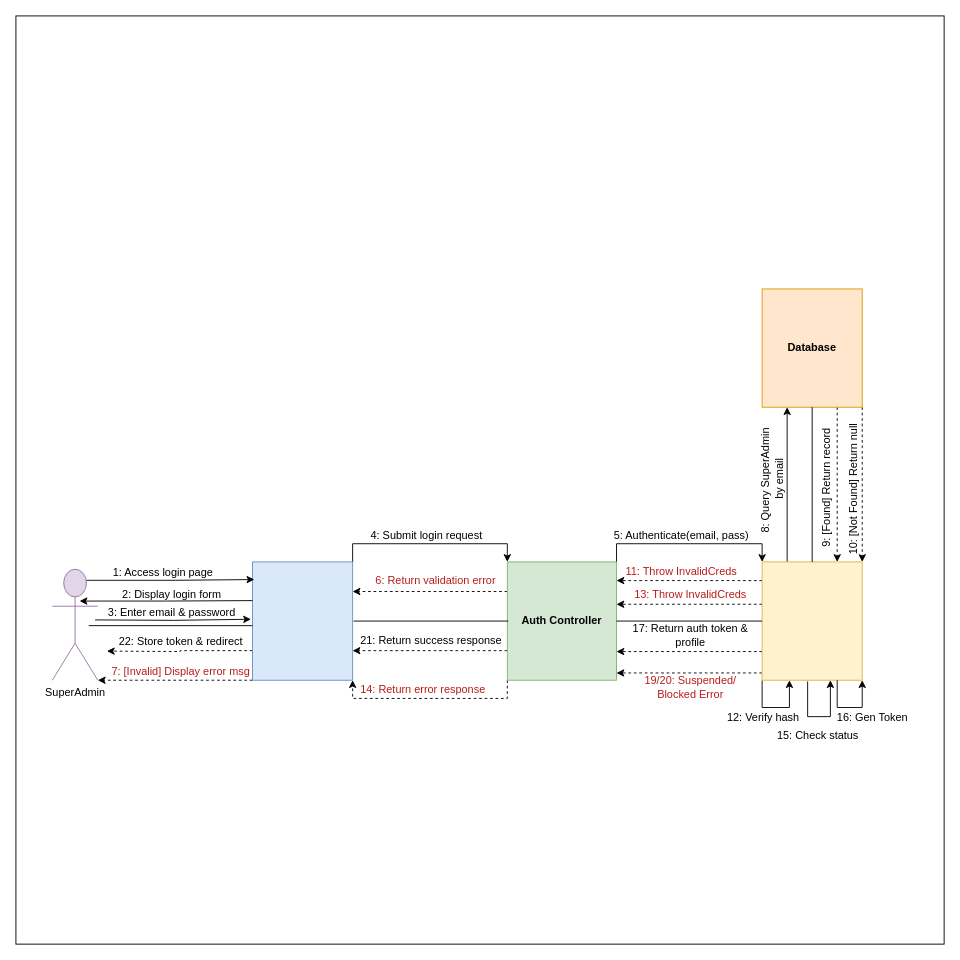
Some shapes in this 960 by 960 pixel diagram are drawn without their labels. The centre of each missing label's shape, as x and y in pixels:
Auth Service: the point at 811,620
Login UI: the point at 302,620
